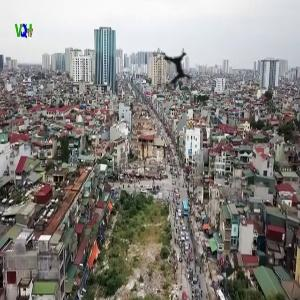drone: (141, 33, 218, 110)
